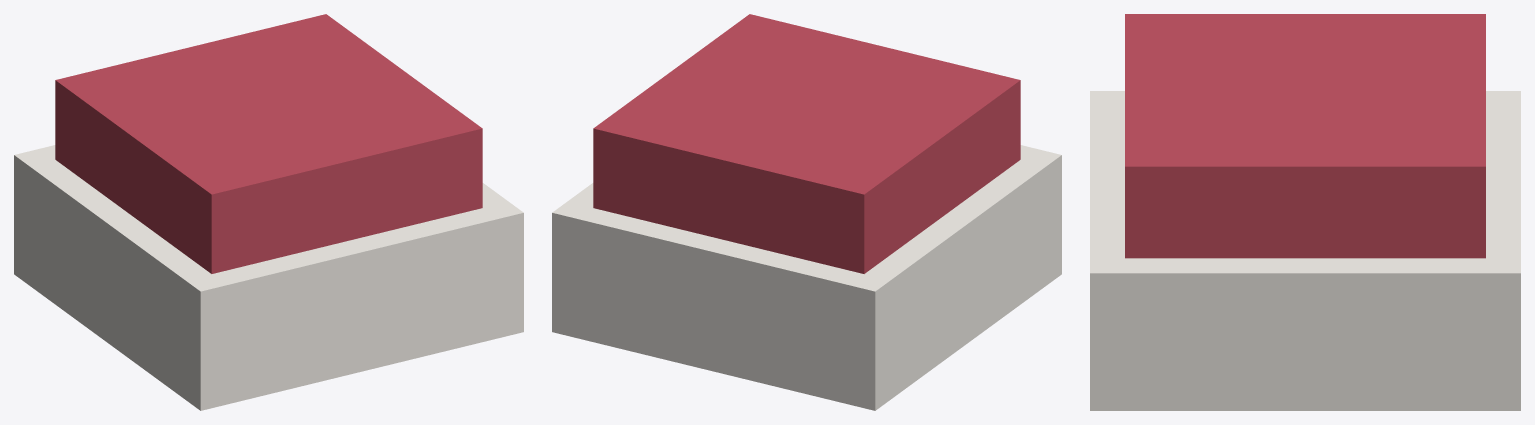
File: samurai_fem_manga_inf.glb
The picture shows the model from 3 angles, left to right: view 1: azimuth 30°, elevation 25°; view 2: azimuth 150°, elevation 25°; view 3: azimuth 270°, elevation 25°; orthographic projection. The views are drawn at different scales.
Parts seen in each view (by area): view 1: samurai_fem_manga_inf; view 2: samurai_fem_manga_inf; view 3: samurai_fem_manga_inf.
Part boxes in pixels (box(x1,y1,x2,y2)): samurai_fem_manga_inf: box(14, 14, 523, 410); samurai_fem_manga_inf: box(552, 14, 1061, 410); samurai_fem_manga_inf: box(1090, 14, 1520, 410).
Bounding box in the file's own units: 0.34 × 0.21 × 0.34.
